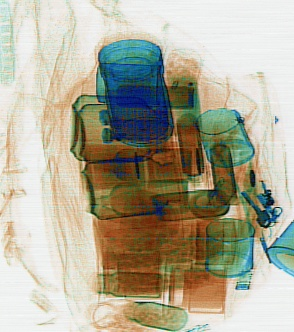scissors: (246, 223, 271, 263)
